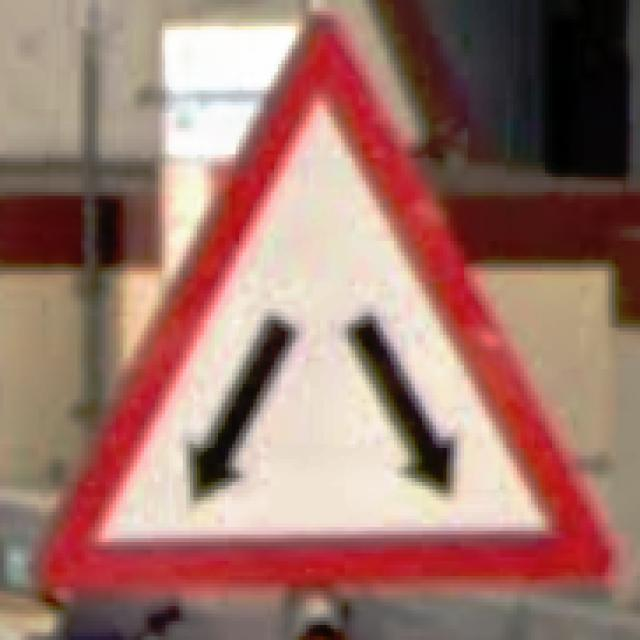diverge: (28, 8, 619, 618)
